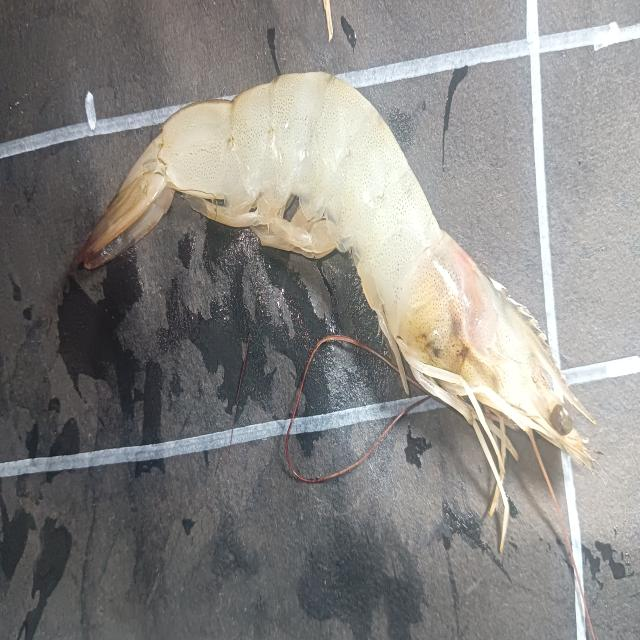shrimp: (62, 72, 592, 547)
